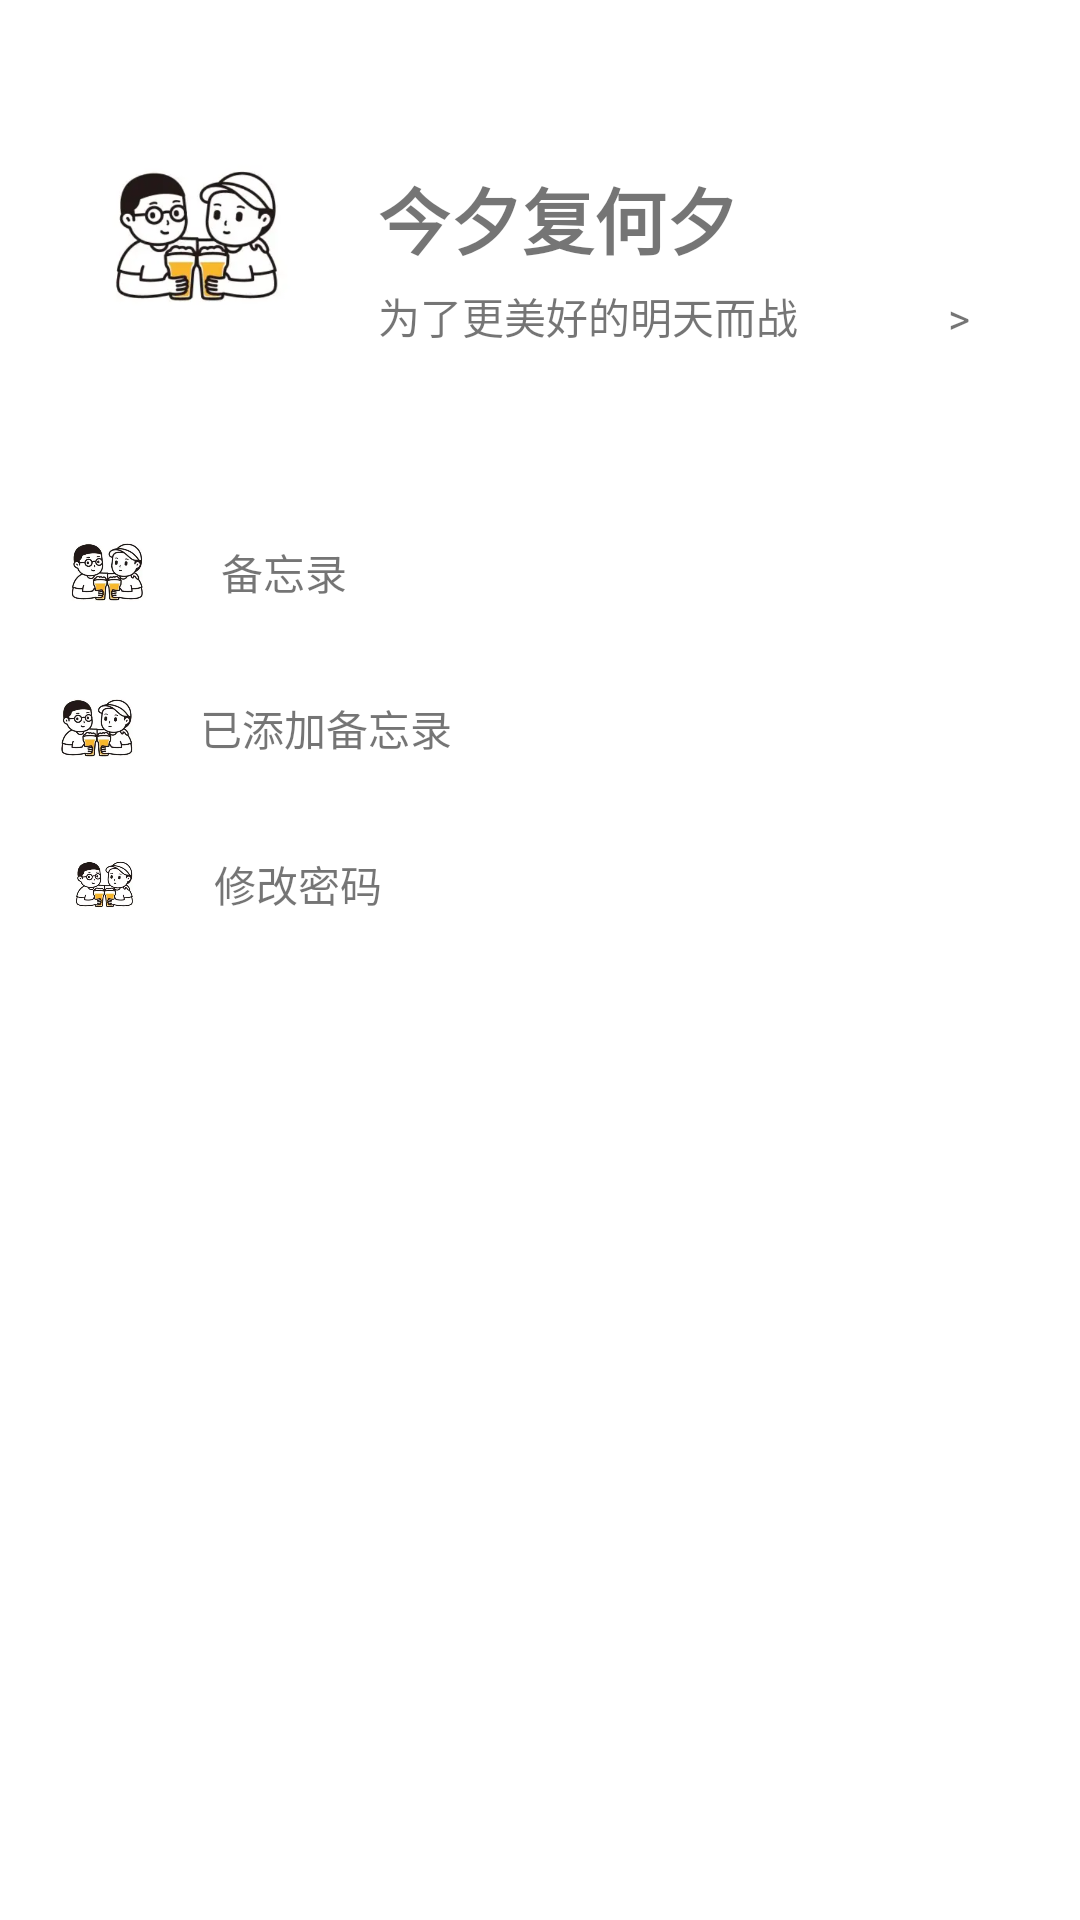

Icons on this 1080x1920 Android screen, each with its box as box(x1, y1, x2, y2):
photo: box(116, 171, 278, 301), box(72, 543, 143, 601), box(61, 699, 132, 757), box(76, 862, 133, 907)
